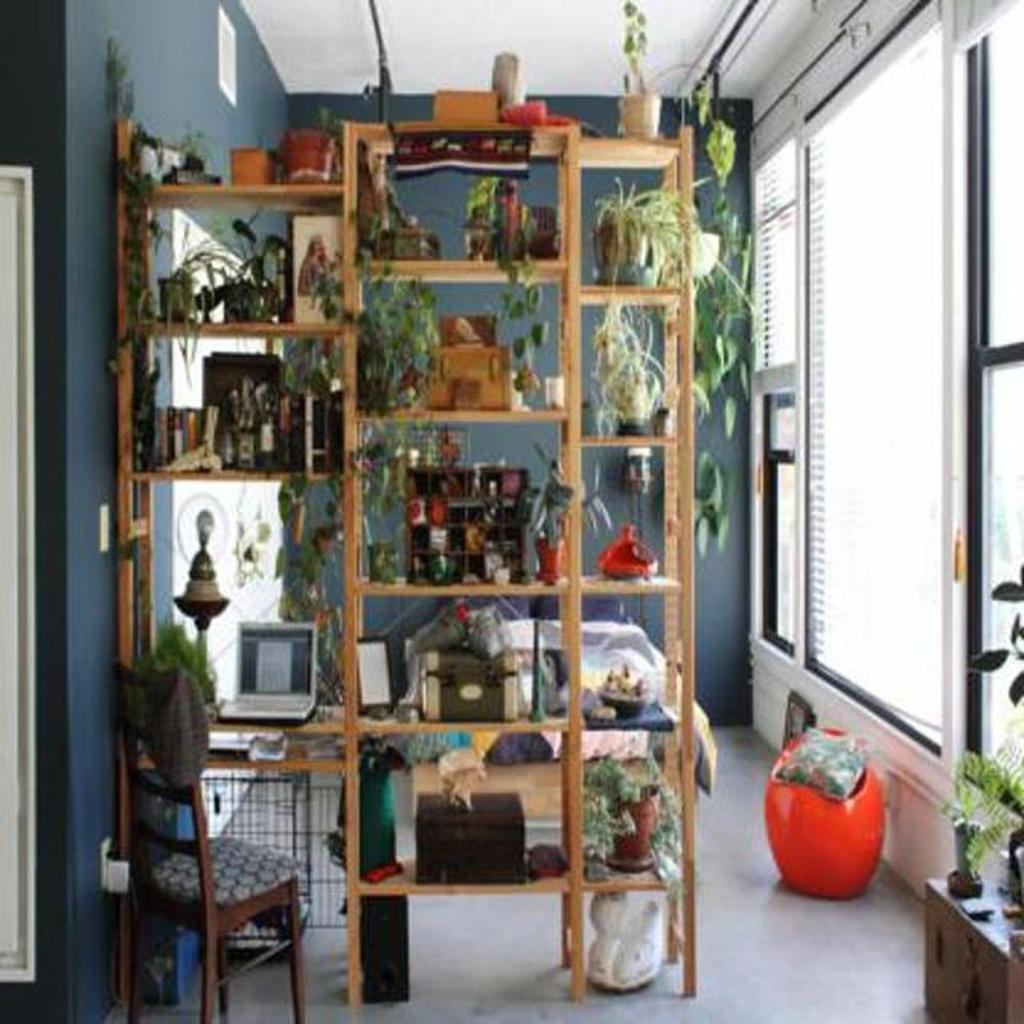lamp: (343, 114, 701, 1004), (112, 113, 415, 1007)
